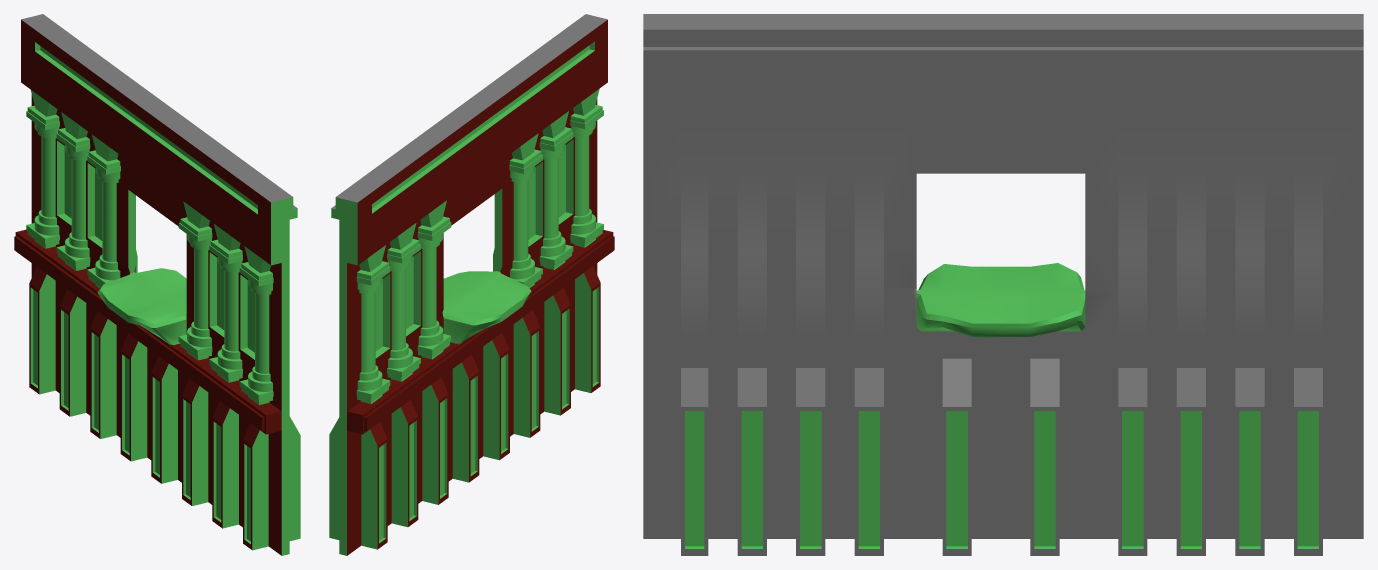
File: SM_MurTrans.fbx
3 views of the same model, side by side, from view 1: azimuth 30°, elevation 25°; view 2: azimuth 150°, elevation 25°; view 3: azimuth 270°, elevation 25° (orthographic). The views are drawn at different scales.
Visible parts, largest first — view 1: MUR TRANS3; view 2: MUR TRANS3; view 3: MUR TRANS3.
Boxes of the visible parts, x1=… form: MUR TRANS3: x1=14, y1=14, x2=300, y2=555; MUR TRANS3: x1=329, y1=14, x2=614, y2=555; MUR TRANS3: x1=643, y1=14, x2=1363, y2=555.
Size of the model in its own units: 1061 by 4400 by 5607.
